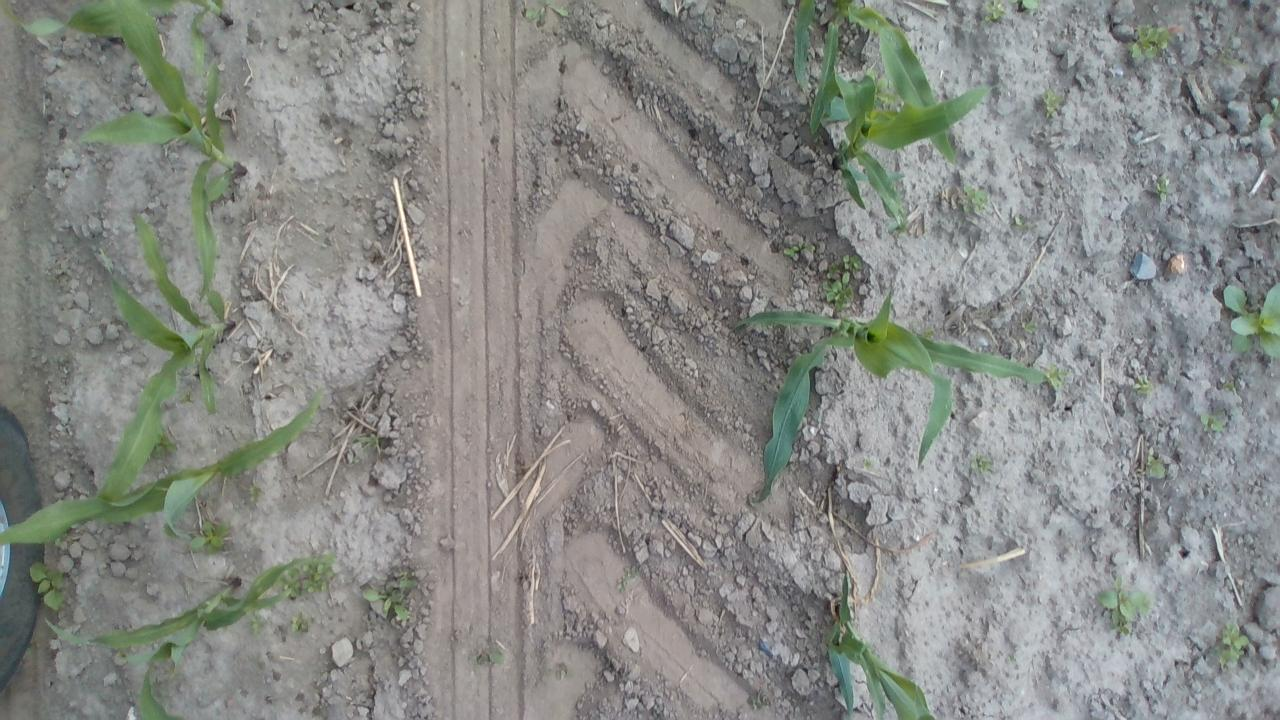Maize: (732, 280, 1064, 507), (1, 380, 321, 548), (94, 149, 242, 503), (28, 554, 323, 716), (794, 1, 998, 226), (22, 2, 252, 174), (834, 574, 942, 720)
Weeds: (1217, 278, 1280, 366), (364, 569, 422, 628), (1099, 581, 1151, 633), (823, 251, 864, 309), (182, 518, 239, 558), (1127, 22, 1172, 63), (30, 569, 72, 611), (1148, 170, 1184, 217), (954, 184, 994, 226), (1217, 628, 1249, 676), (1190, 405, 1237, 437), (469, 638, 516, 668), (520, 0, 574, 25), (612, 554, 643, 594), (286, 566, 334, 591), (1040, 88, 1072, 124), (1138, 448, 1166, 483), (777, 241, 808, 268), (1260, 92, 1280, 131), (1130, 372, 1154, 399), (1016, 2, 1048, 21), (984, 0, 1011, 22), (290, 617, 314, 639), (970, 454, 996, 470), (1025, 320, 1041, 340)
